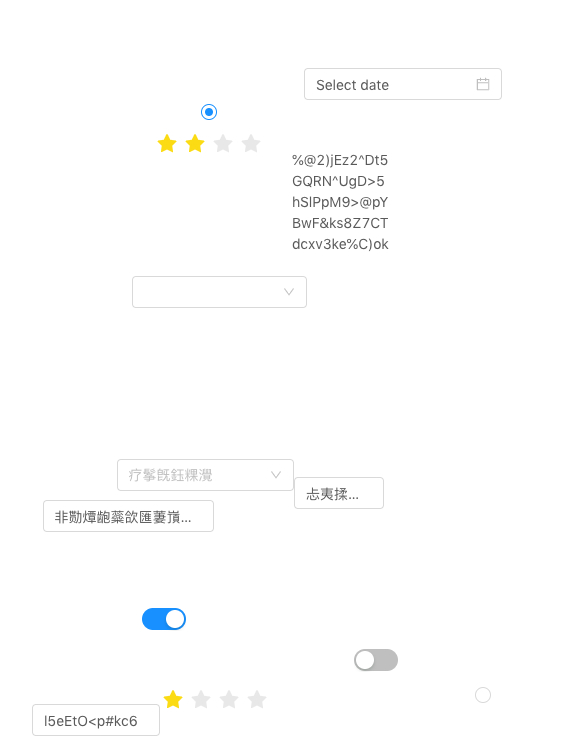DatePicker: (304, 68, 502, 100)
Input: (43, 500, 214, 532), (32, 704, 160, 736), (294, 477, 384, 509)
Radio: (201, 101, 217, 121), (475, 684, 491, 704)
Rate: (157, 127, 277, 159), (163, 683, 283, 715)
Select: (117, 459, 294, 491), (132, 276, 307, 308)
Switch: (354, 648, 398, 672), (142, 607, 186, 631)
Text: (292, 149, 392, 257)
